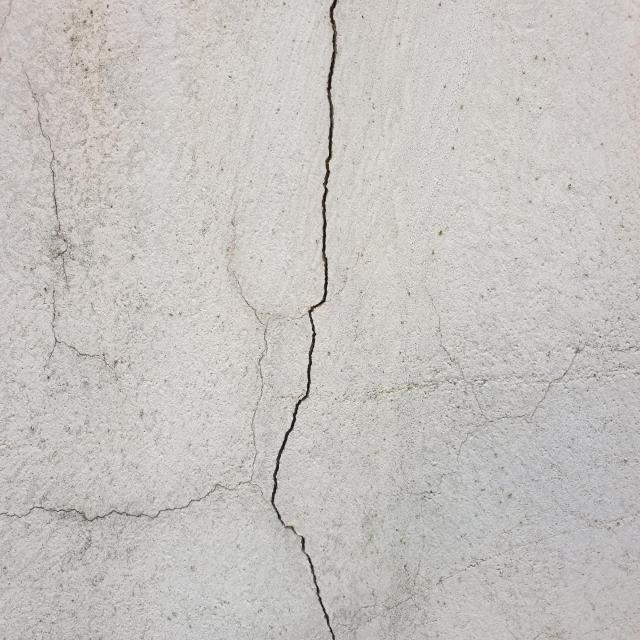SurfaceCrack: (227, 0, 379, 640), (0, 464, 272, 547)
